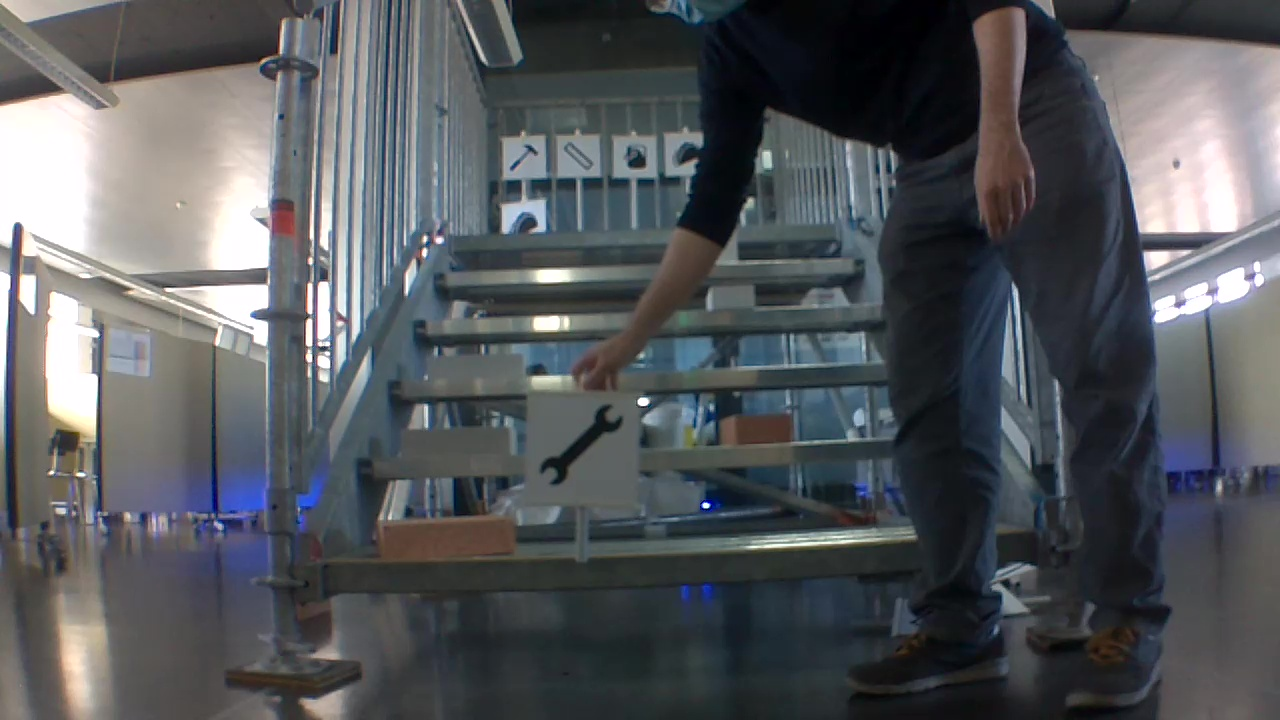brick: (375, 516, 513, 555), (403, 428, 514, 458), (427, 354, 526, 378), (721, 414, 791, 445), (705, 286, 753, 309)
bucket: (619, 141, 648, 172)
hammer: (506, 139, 539, 176)
ruler: (557, 137, 594, 172)
taco: (503, 208, 537, 236), (669, 138, 699, 166)
wrench: (534, 401, 630, 490)
